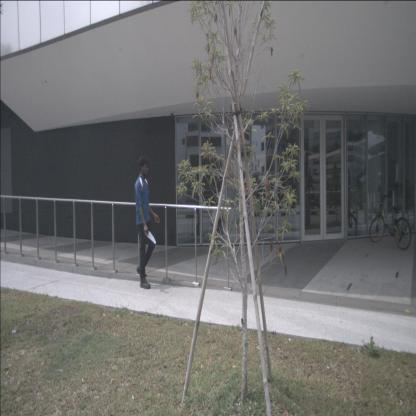human-pedestrian-adult: (134, 153, 161, 290)
vehicle-bicycle: (369, 185, 412, 249), (332, 185, 358, 238)
vehicle-car: (210, 198, 259, 235)
